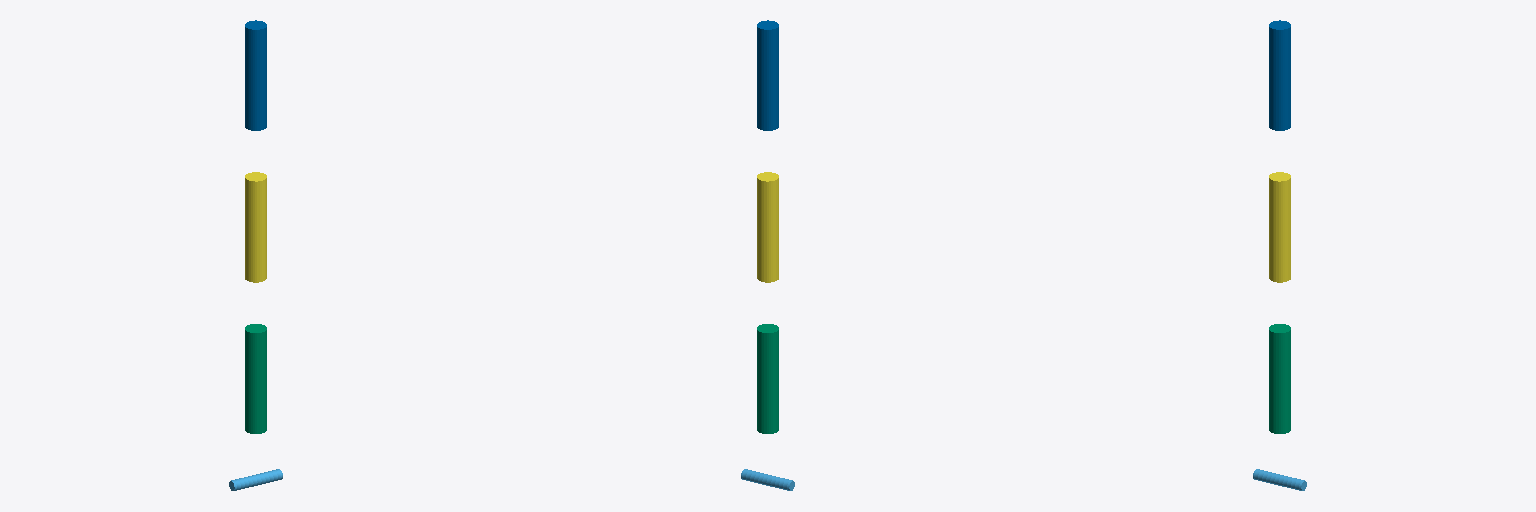
The robot description file, URDF, robot "2DrobotArm":
<?xml version="1.0" encoding="utf-8"?>

<robot name="2DrobotArm">
    <link name="world"/>

    <link name="link1">
        <visual>
            <origin rpy="0 1.57079632679 0" xyz="0 0 0.3"/>
            <geometry>
                <cylinder length="0.1" radius="0.01"/>
            </geometry>
        </visual>
    </link>

    <joint name="worldTolink1" type="fixed">
        <parent link="world"/>
        <child link="link1"/>
        <origin xyz="0 0 0"/>
    </joint>

    <link name="link2">
        <visual>
            <origin rpy="0 0 0" xyz="0 0 0.2"/>
            <geometry>
                <cylinder length="0.2" radius="0.02"/>
            </geometry>
        </visual>
        <collision>
            <origin rpy="0 0 0" xyz="0 0 0.2"/>
            <geometry>
                <cylinder length="0.2" radius="0.02"/>
            </geometry>
        </collision>
        <inertial>
            <origin rpy="0 0 0" xyz="0.0 0.0 0.2"/>
            <mass value="1"/>
            <inertia ixx="0.001" ixy="0" ixz="0" iyy="0.001" iyz="0" izz="0.001"/>
        </inertial>
    </link>

    <joint name="link1Tolink2" type="revolute">
        <parent link="link1"/>
        <child link="link2"/>
        <origin xyz="0 0 0.3"/>
        <axis xyz="1 0 0"/>
        <dynamics damping="0.0" friction="0.0"/>
    </joint>

    <link name="link3">
        <visual>
            <origin rpy="0 0 0" xyz="0 0 0.2"/>
            <geometry>
                <cylinder length="0.2" radius="0.02"/>
            </geometry>
        </visual>
        <collision>
            <origin rpy="0 0 0" xyz="0 0 0.2"/>
            <geometry>
                <cylinder length="0.2" radius="0.02"/>
            </geometry>
        </collision>
        <inertial>
            <origin rpy="0 0 0" xyz="0.0 0.0 0.2"/>
            <mass value="1"/>
            <inertia ixx="0.001" ixy="0" ixz="0" iyy="0.001" iyz="0" izz="0.001"/>
        </inertial>
    </link>

    <joint name="link1Tolink3" type="revolute">
        <parent link="link2"/>
        <child link="link3"/>
        <origin xyz="0 0 0.3"/>
        <axis xyz="1 0 0"/>
    </joint>

    <link name="link4">
        <visual>
            <origin rpy="0 0 0" xyz="0 0 0.2"/>
            <geometry>
                <cylinder length="0.2" radius="0.02"/>
            </geometry>
        </visual>
        <collision>
            <origin rpy="0 0 0" xyz="0 0 0.2"/>
            <geometry>
                <cylinder length="0.2" radius="0.02"/>
            </geometry>
        </collision>
        <inertial>
            <origin rpy="0 0 0" xyz="0.0 0.0 0.2"/>
            <mass value="1"/>
            <inertia ixx="0.001" ixy="0" ixz="0" iyy="0.001" iyz="0" izz="0.001"/>
        </inertial>
    </link>

    <joint name="link3Tolink4" type="prismatic">
        <parent link="link3"/>
        <child link="link4"/>
        <origin xyz="0 0 0.3"/>
        <axis xyz="0 1 0"/>
    </joint>
</robot>

--- Render facts (derived) ---
The picture shows the robot from 3 angles, left to right: view 1: azimuth 30°, elevation 25°; view 2: azimuth 150°, elevation 25°; view 3: azimuth 330°, elevation 25°; orthographic projection.
Robot: 2DrobotArm — 5 links, 4 joints (2 revolute, 1 prismatic, 1 fixed); root link world; default pose: all joints at 0.
Links seen in each view (by area): view 1: link3, link2, link4, link1; view 2: link3, link2, link4, link1; view 3: link3, link2, link4, link1.
Boxes of the visible links, bbox=[...] form: link3: bbox=[245, 172, 266, 282]; link2: bbox=[245, 324, 266, 433]; link4: bbox=[245, 20, 266, 130]; link1: bbox=[229, 469, 282, 490]; link3: bbox=[757, 172, 778, 282]; link2: bbox=[757, 324, 778, 433]; link4: bbox=[757, 20, 778, 130]; link1: bbox=[741, 469, 794, 490]; link3: bbox=[1269, 172, 1290, 282]; link2: bbox=[1269, 324, 1290, 433]; link4: bbox=[1269, 20, 1290, 130]; link1: bbox=[1253, 469, 1306, 490].
Size in the robot's own frame: 0.1 by 0.04 by 0.91 metres.
Geometry: primitives only (box / cylinder / sphere), no mesh files.
